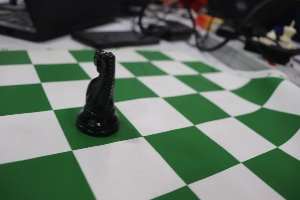black_horse: (69, 39, 128, 143)
